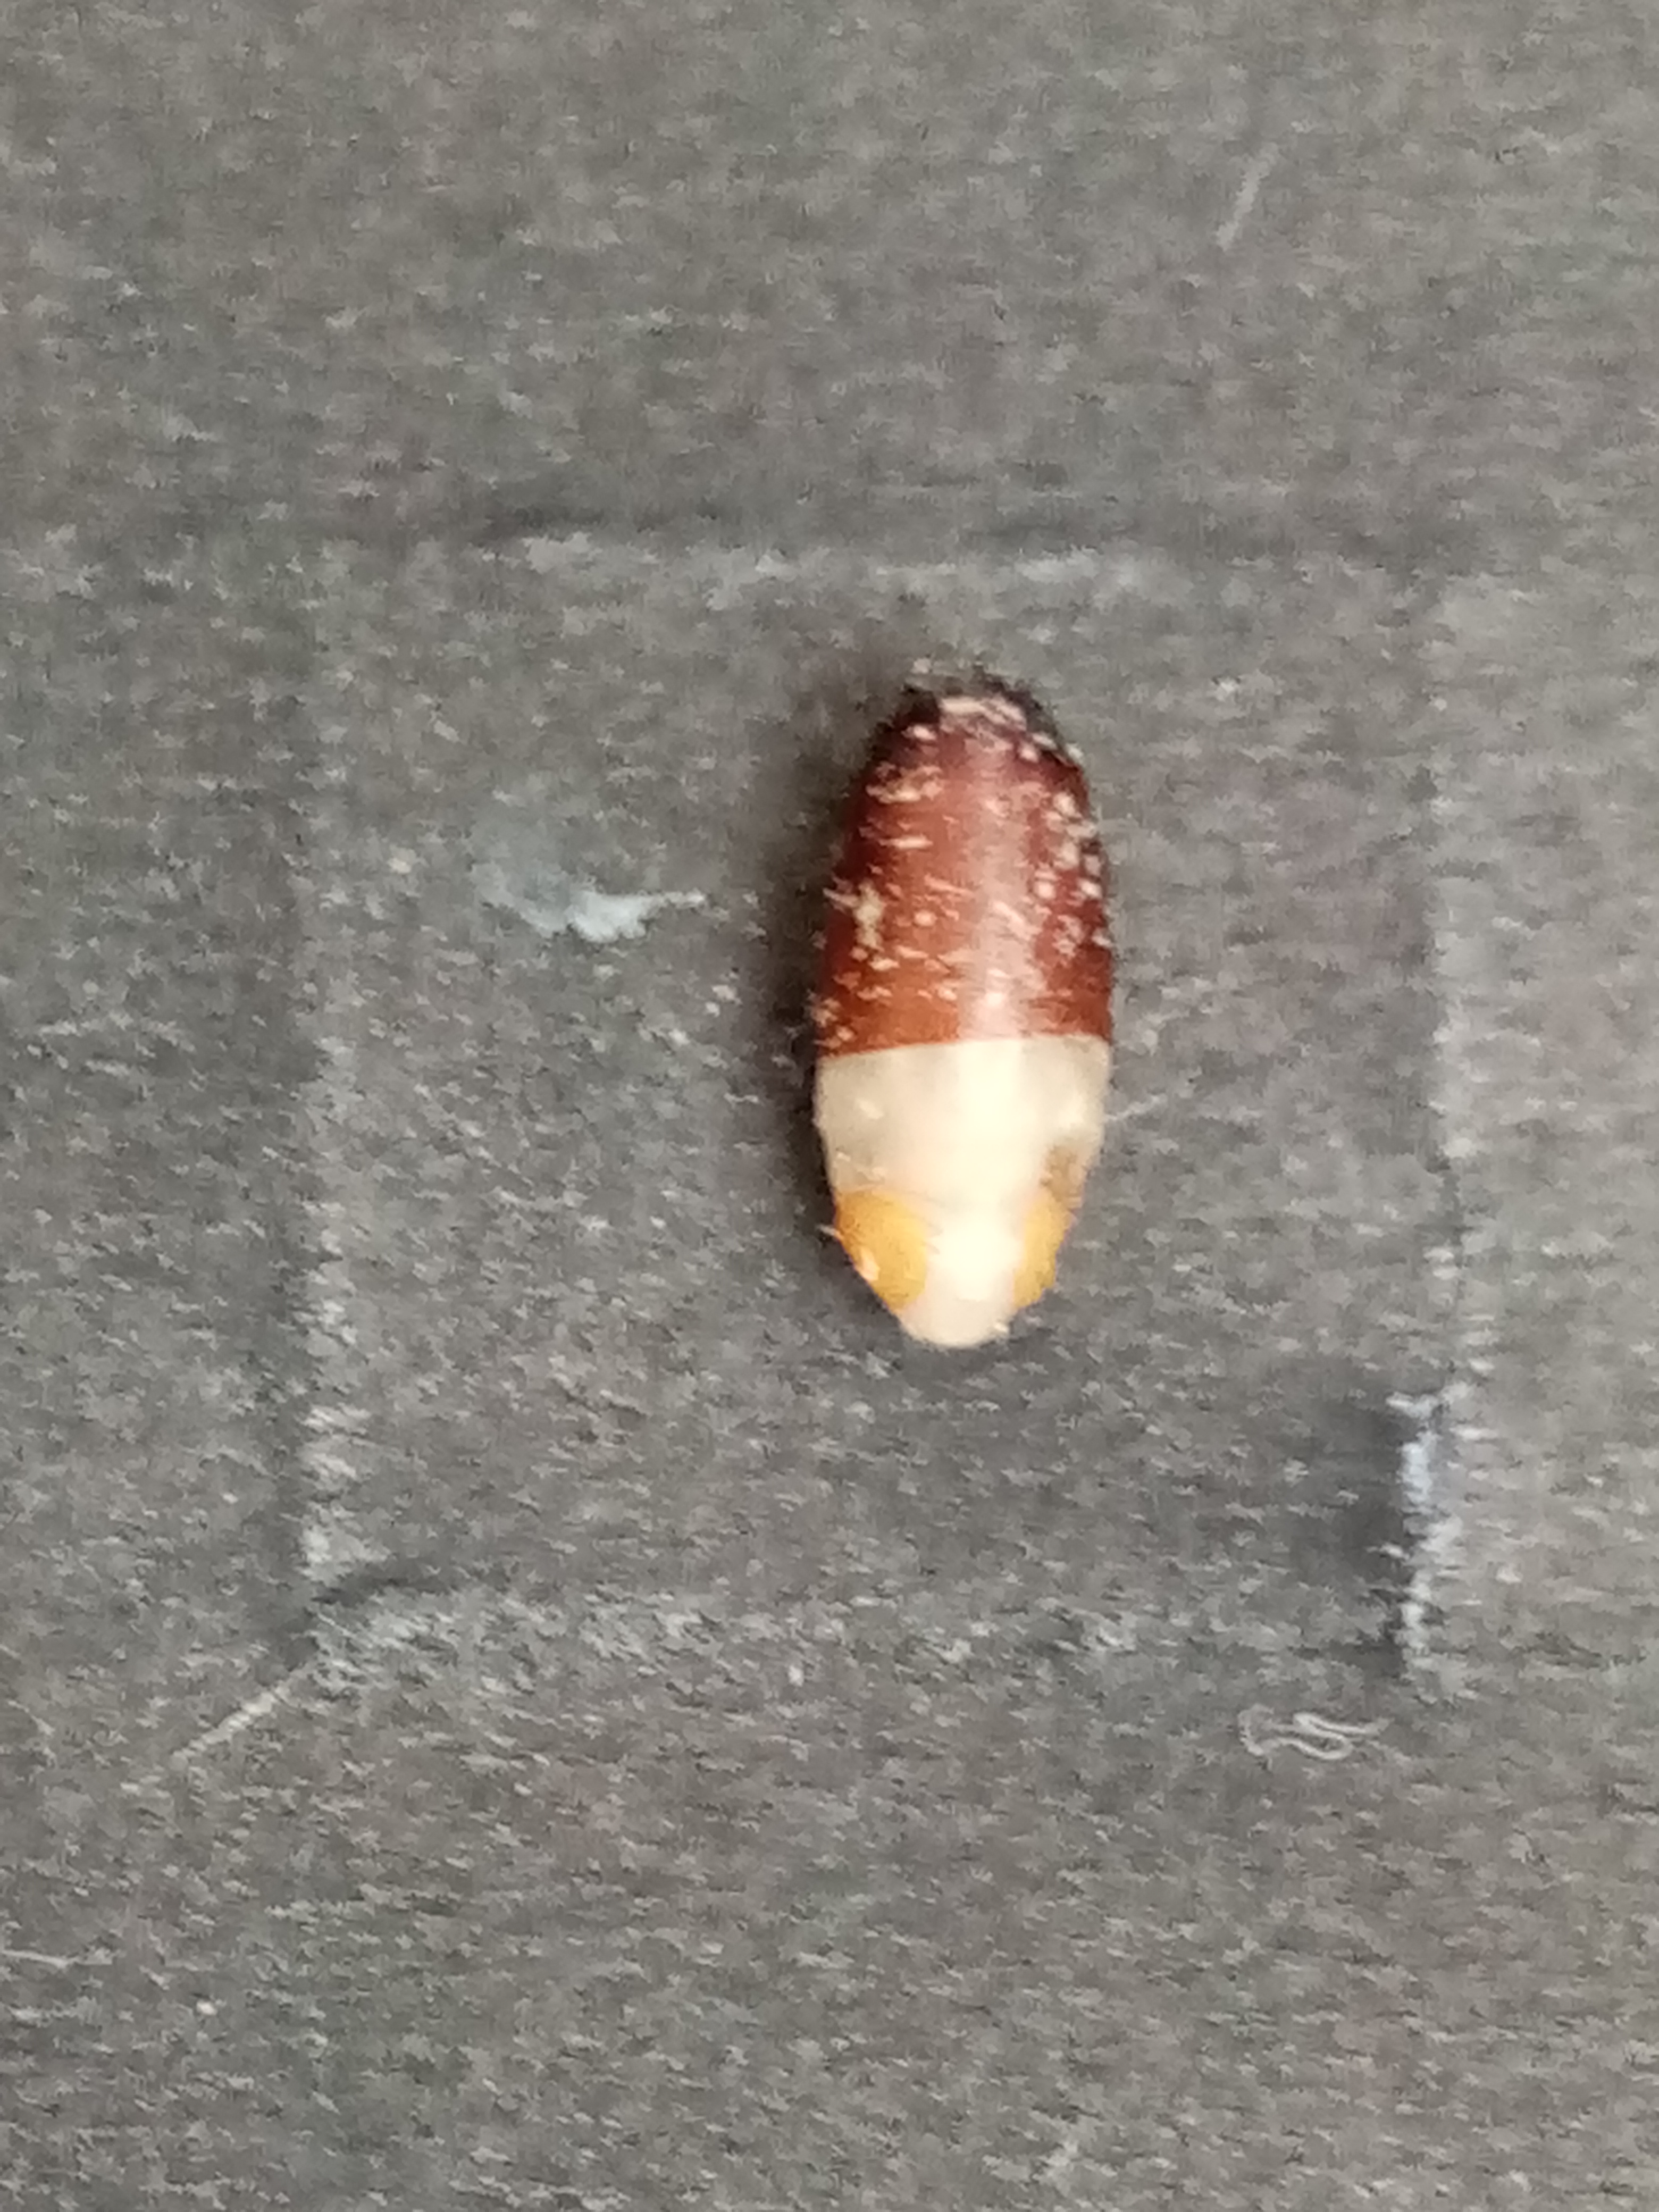pupa: (819, 1137, 1096, 1348)
